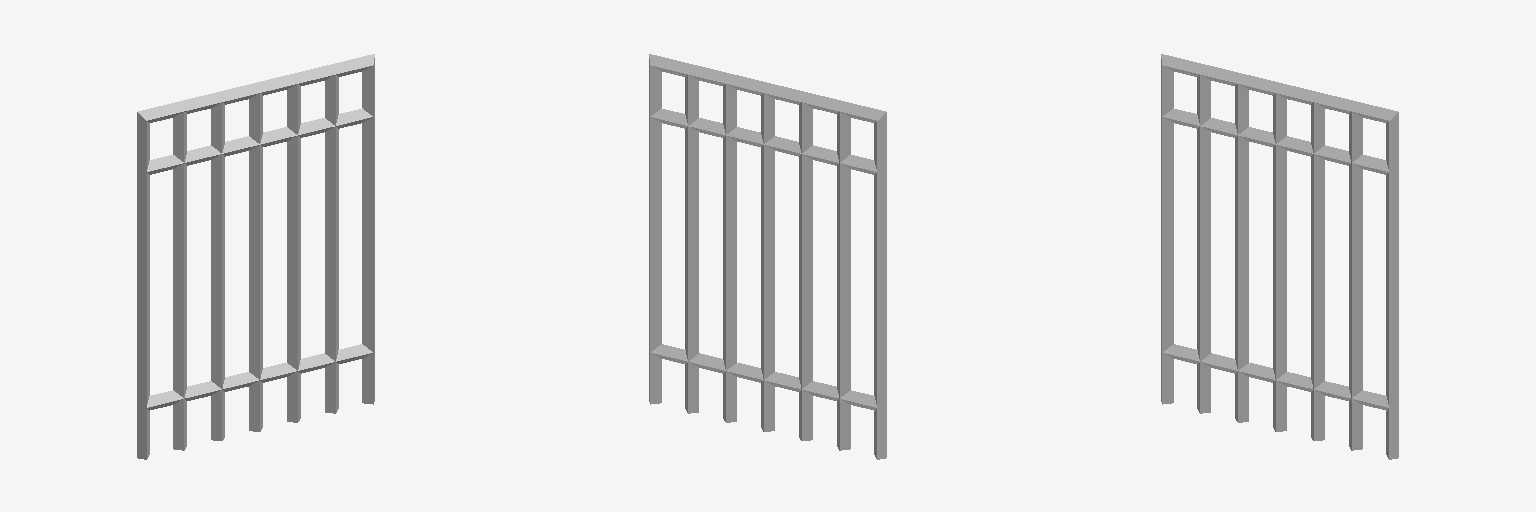
File: MaintainenceGate.obj
The picture shows the model from 3 angles: view 1: azimuth 30°, elevation 25°; view 2: azimuth 150°, elevation 25°; view 3: azimuth 330°, elevation 25°; orthographic projection.
Parts seen in each view (by area): view 1: Maintainence_Gate_Plane; view 2: Maintainence_Gate_Plane; view 3: Maintainence_Gate_Plane.
Part boxes in pixels (bbox=[...]): Maintainence_Gate_Plane: bbox=[137, 54, 374, 459]; Maintainence_Gate_Plane: bbox=[649, 54, 886, 459]; Maintainence_Gate_Plane: bbox=[1161, 54, 1398, 459].
Size of the model in its own units: 1.69 by 2.35 by 0.1.